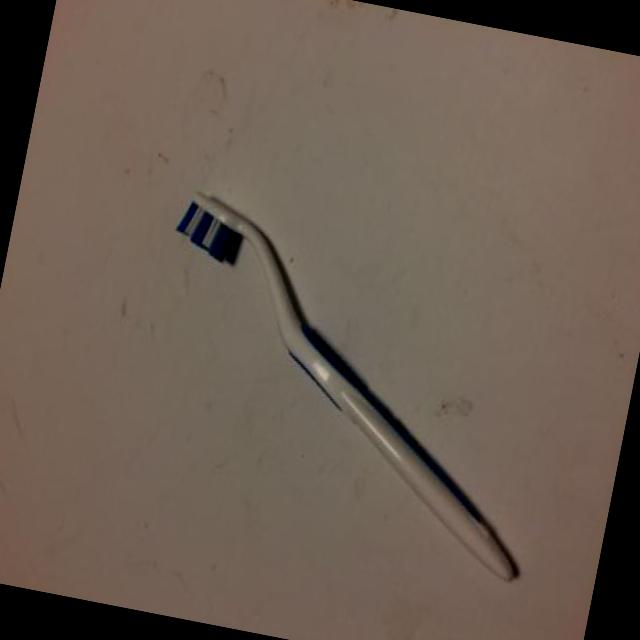Trash: (124, 177, 595, 587)
